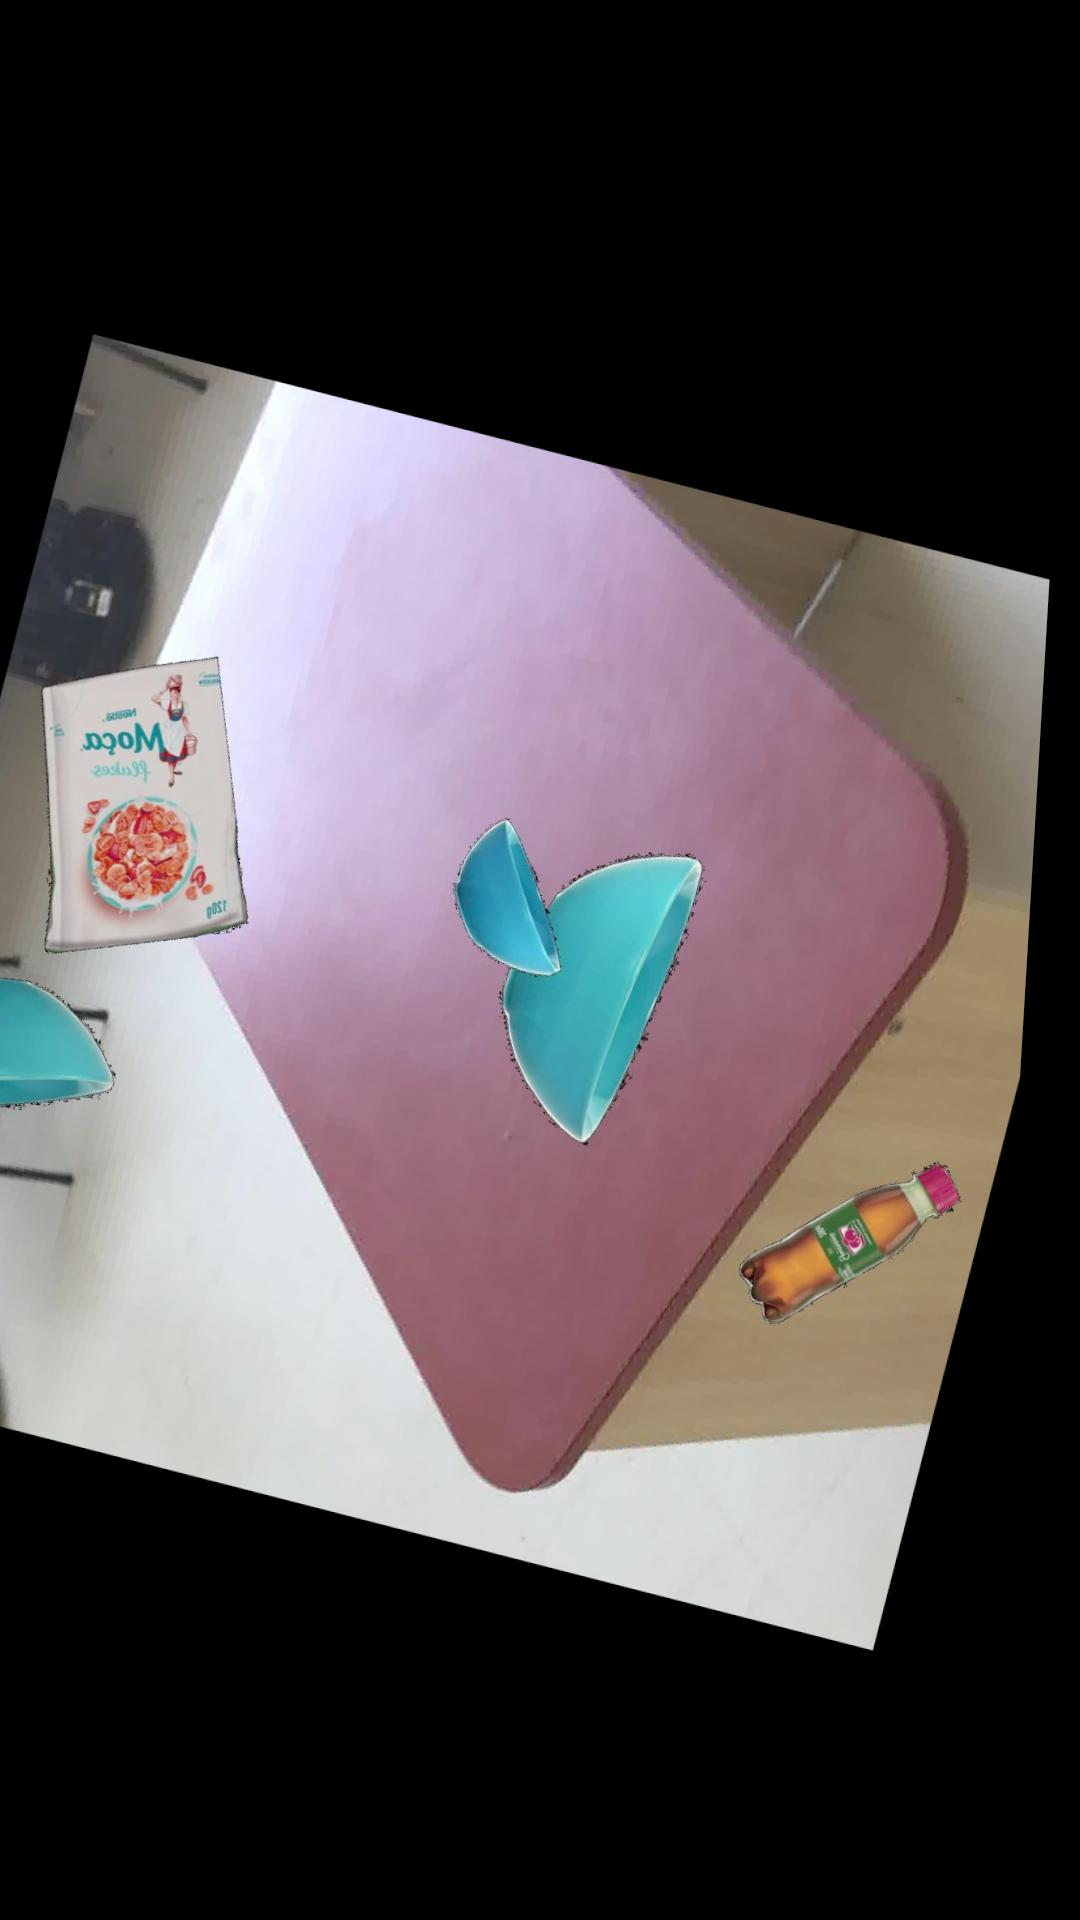bowl: (509, 841, 715, 1134), (464, 808, 572, 965), (0, 973, 128, 1105)
corn flakes: (49, 651, 258, 949)
guarana: (753, 1147, 973, 1309)
